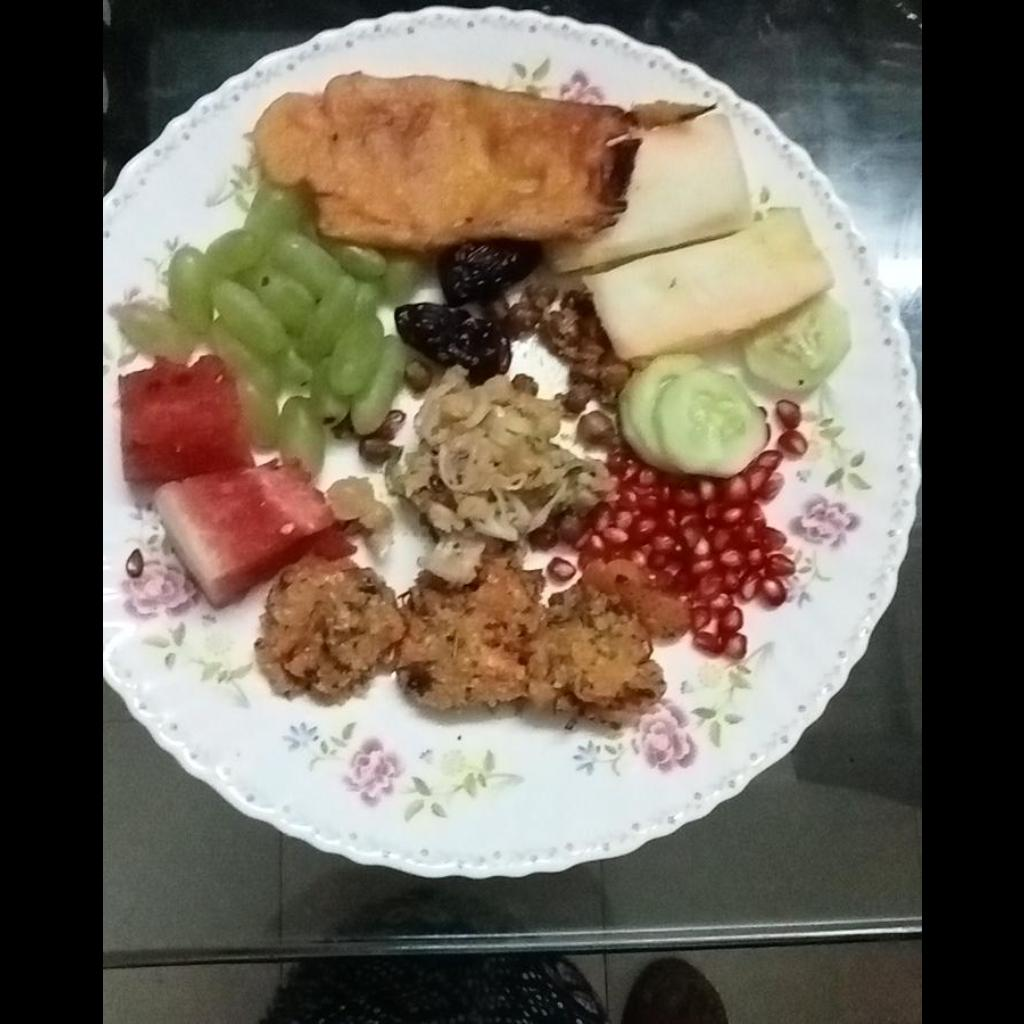beguni: (248, 72, 639, 243)
cucumber: (615, 301, 850, 471)
dates: (395, 239, 539, 370)
grapes: (110, 191, 410, 465)
noodles: (385, 369, 606, 546)
peyaju: (250, 558, 659, 727)
watermelon: (119, 353, 344, 603)
